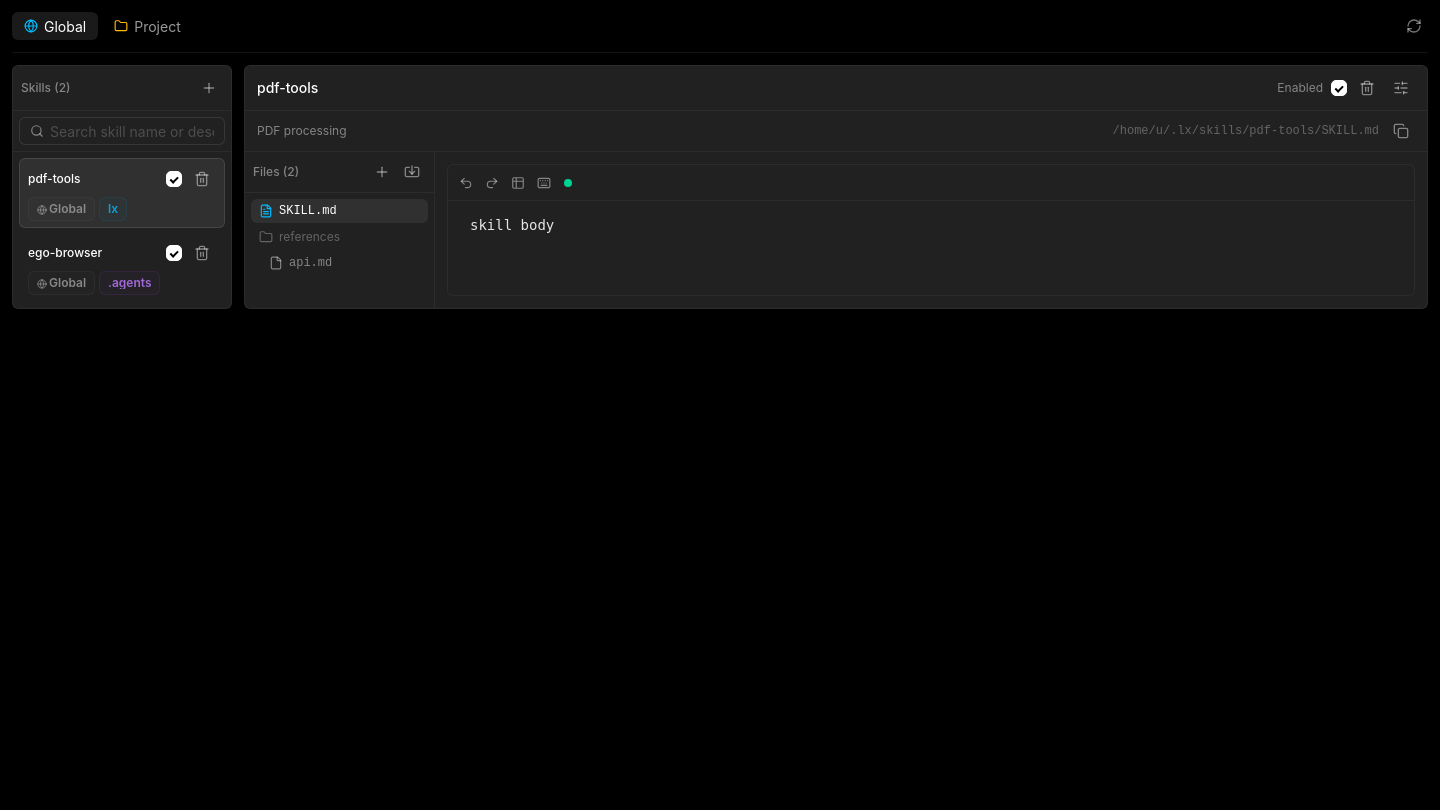
Test: SkillSettings › 右键菜单复制副本：弹窗预填目标路径，确认后出现新文件行
Check: the 2nd text "pdf-tools" is shown, box [28, 171, 81, 187]
Check: the text "api.md" is shown, box [289, 255, 332, 271]
Right-click the button "api.md" at (301, 263), box [269, 256, 332, 270]
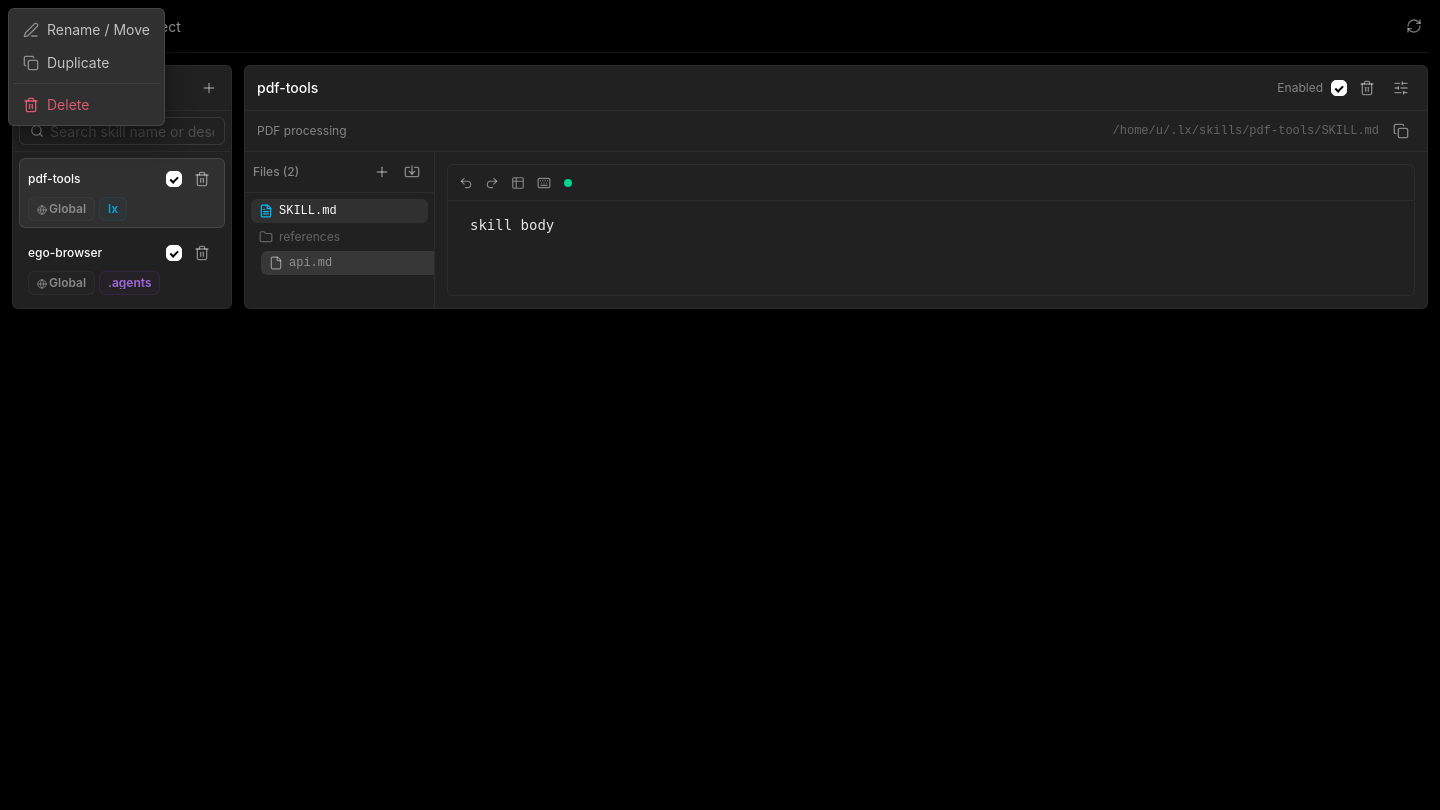
Click the menu item "Duplicate" at (86, 62), box [13, 46, 160, 79]
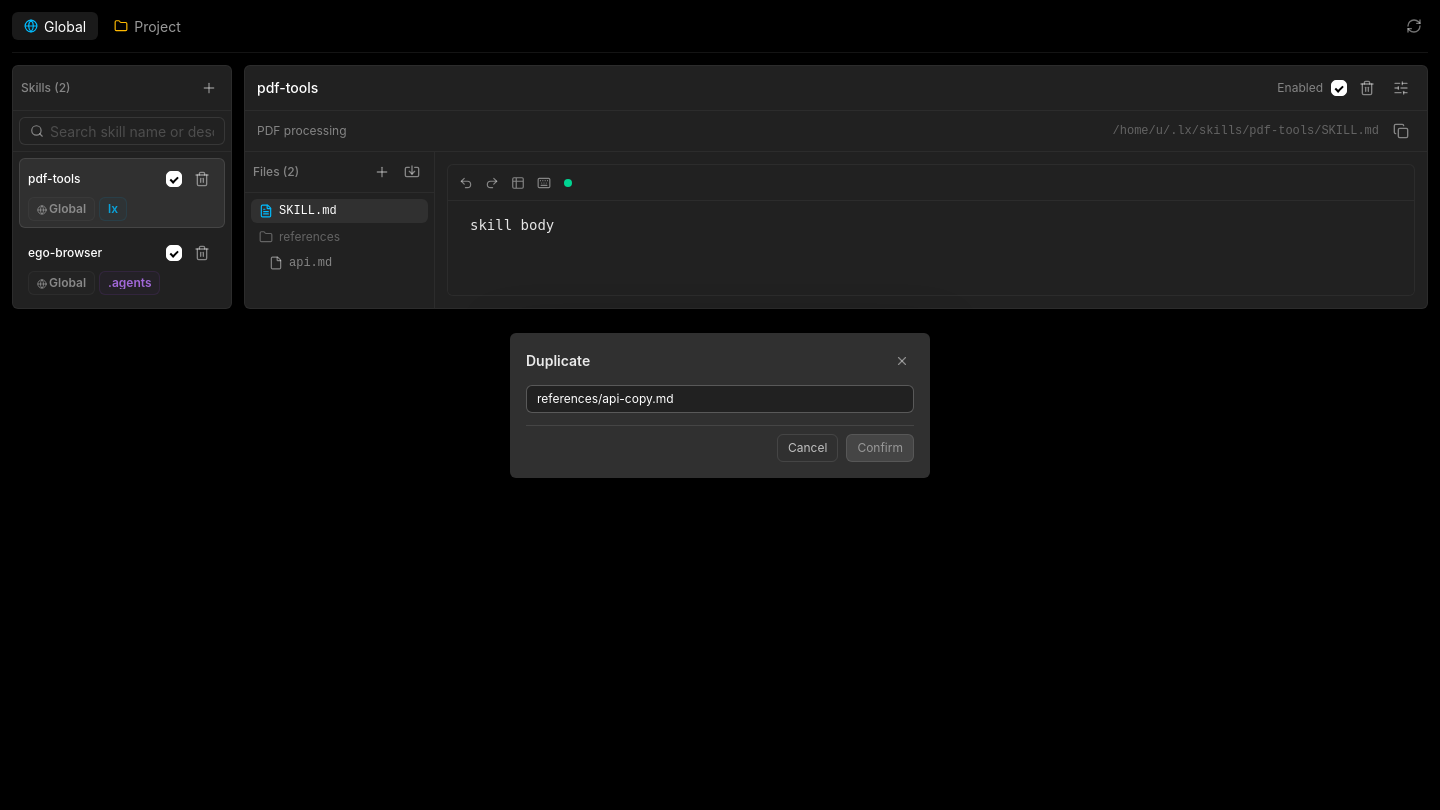
Check: the field with placeholder "references/api-errors.md" holds "references/api-copy.md", box [537, 390, 903, 406]
Click the button labelled "Confirm" at (880, 448), box [846, 434, 914, 462]
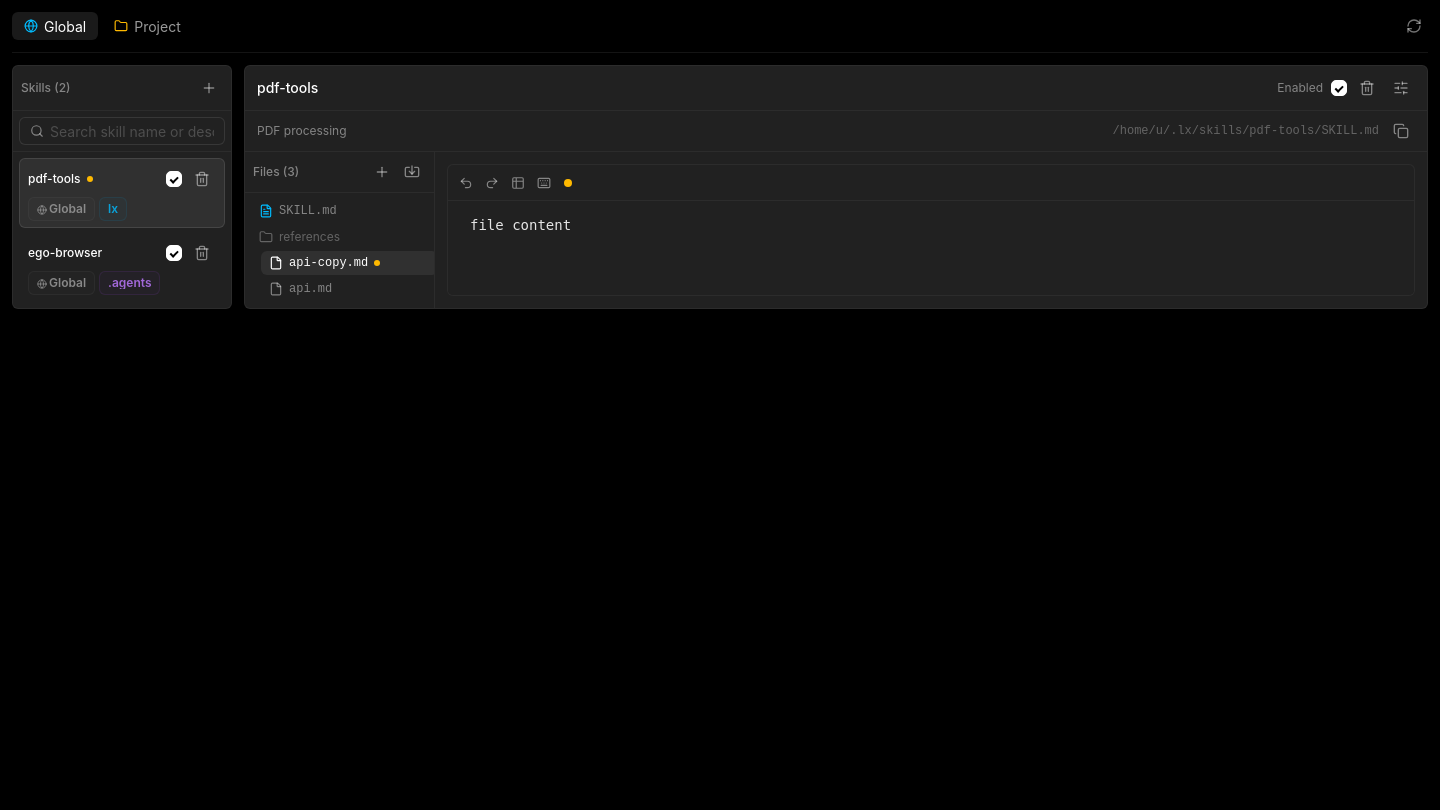
Check: the text "api-copy.md" is shown, box [289, 255, 368, 271]
